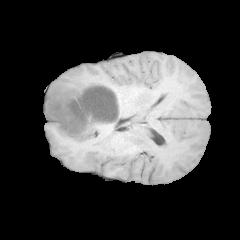glioma: (44, 75, 125, 140)
